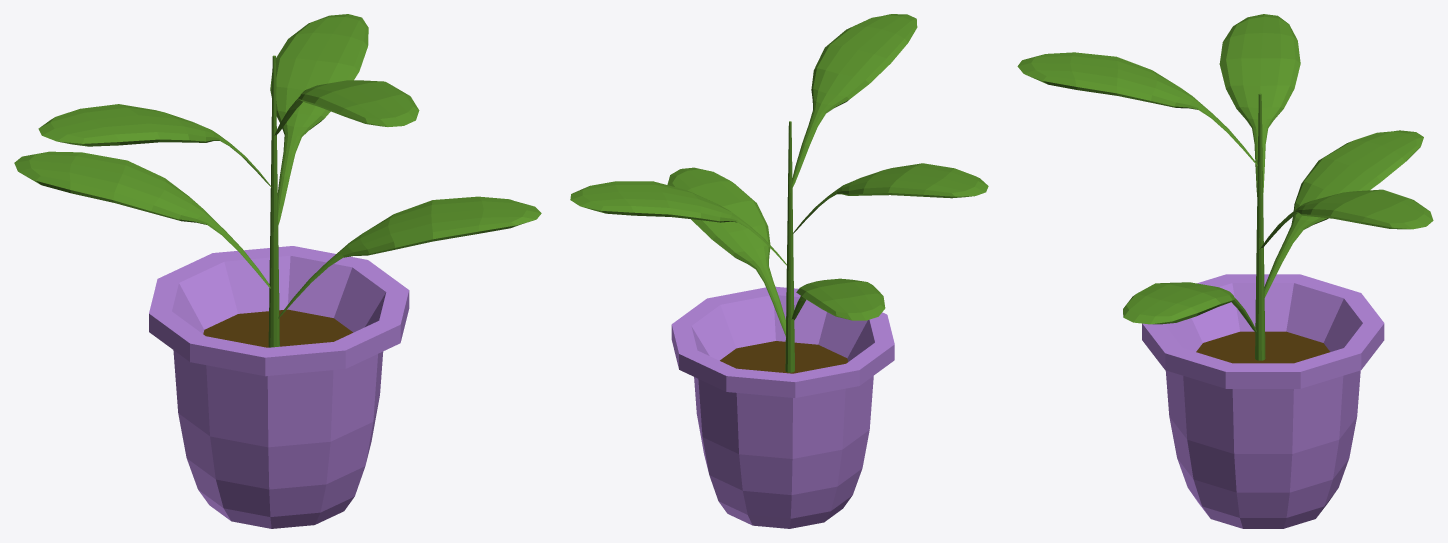
File: Tree Pot_17.fbx
The picture shows the model from 3 angles, left to right: view 1: azimuth 30°, elevation 25°; view 2: azimuth 150°, elevation 25°; view 3: azimuth 270°, elevation 25°; orthographic projection. The views are drawn at different scales.
Visible parts, largest first — view 1: Tree Pot_17; view 2: Tree Pot_17; view 3: Tree Pot_17.
Part boxes in pixels (<box>): Tree Pot_17: <box>14,14,541,528</box>; Tree Pot_17: <box>570,14,988,528</box>; Tree Pot_17: <box>1017,14,1433,528</box>.
Bounding box in the file's own units: 0.442 × 0.4684 × 0.4057.
